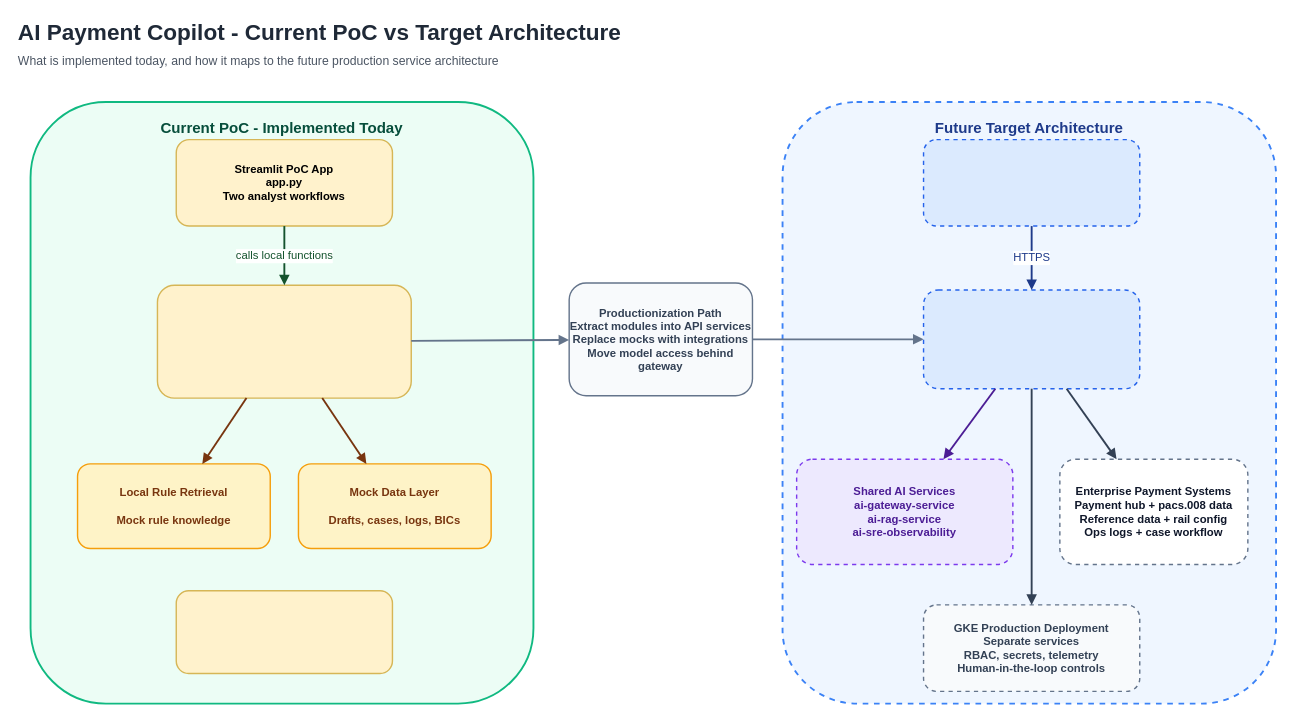
Some shapes in this 1293 by 720 pixel diagram are drawn without their labels. The shapes that lost their labels are listed below. From the top down, each one's centre as x and y in pixels, then its label:
At point (1031, 182): "ai-payment-copilot-ui Internal web UI Auth-aware analyst workspace".
At point (284, 341): "Local Workflow Modules".
At point (1031, 339): "ai-payment-copilot-api Backend API + orchestration Audit + policy enforcement".
At point (284, 632): "Optional OpenAI SDK Call Explanation polishing only".
